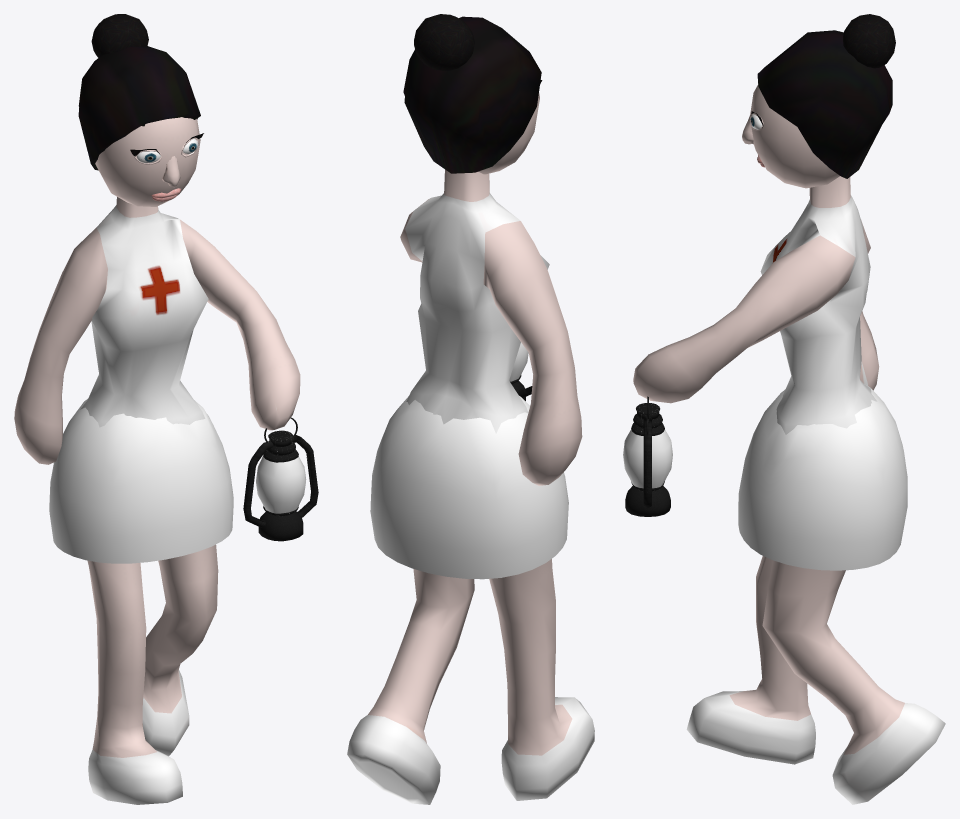
File: walking_000015.obj
3 renders of one model, left to right at view 1: azimuth 30°, elevation 25°; view 2: azimuth 150°, elevation 25°; view 3: azimuth 270°, elevation 25°, orthographic. The views are drawn at different scales.
Parts seen in each view (by area): view 1: Cube_Cube.001, Cube.001_Cube, Cube.004; view 2: Cube_Cube.001, Cube.001_Cube, Cube.004; view 3: Cube_Cube.001, Cube.001_Cube, Cube.004.
Boxes of the visible parts, <box> form: Cube_Cube.001: <box>14,14,300,804</box>; Cube.001_Cube: <box>49,399,233,563</box>; Cube.004: <box>243,417,318,541</box>; Cube_Cube.001: <box>347,14,594,804</box>; Cube.001_Cube: <box>370,396,568,579</box>; Cube.004: <box>509,342,532,400</box>; Cube_Cube.001: <box>633,14,945,804</box>; Cube.001_Cube: <box>738,384,907,570</box>; Cube.004: <box>623,396,672,516</box>.
Size of the model in its own units: 0.5981 by 2.11 by 0.8023.
